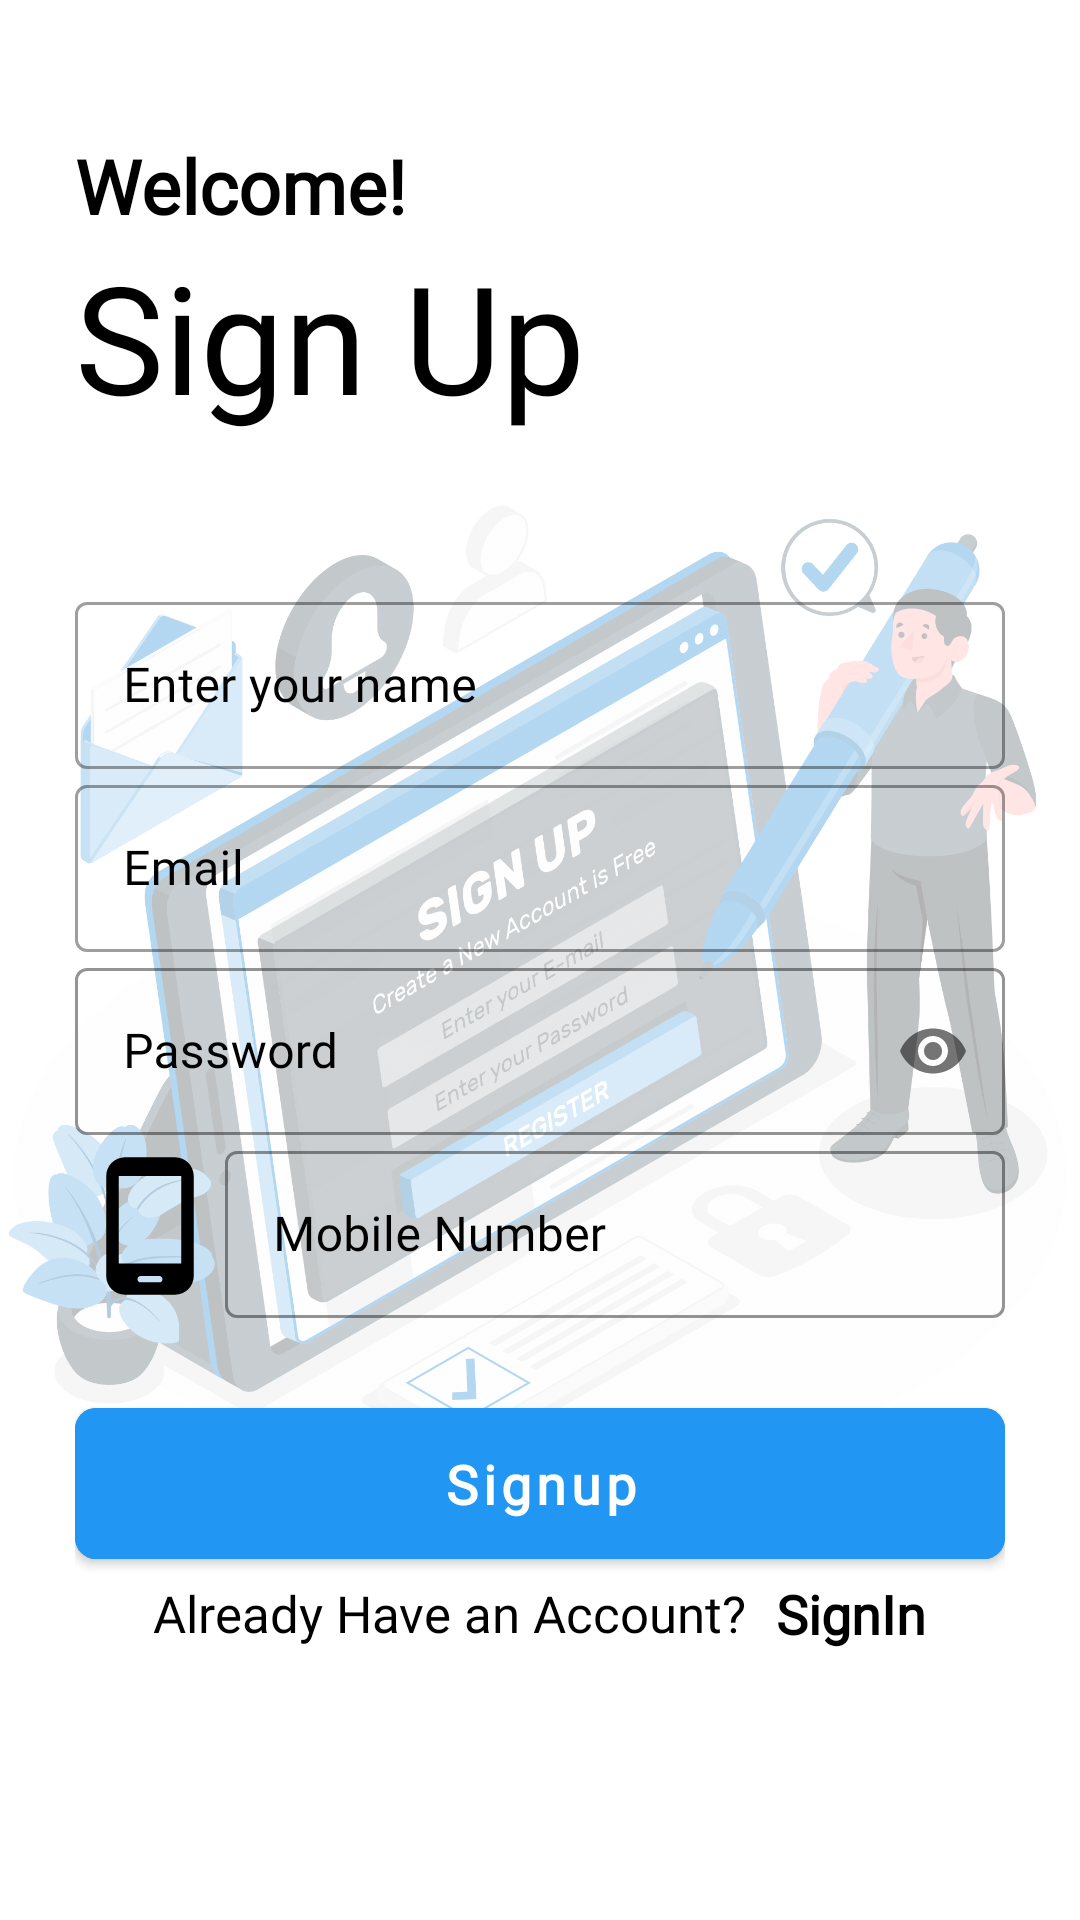

Point at icon controls on the screen. Image size 1080px x 1920px, points as [x,y].
phone: [150,1226]
